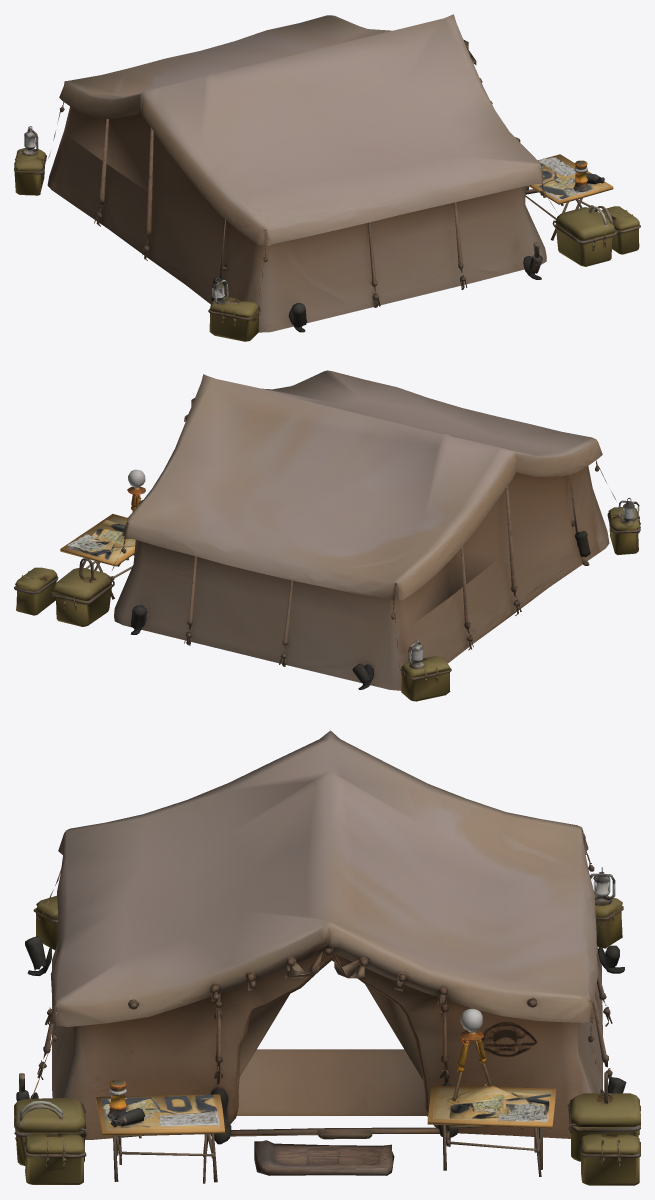
The model's file is ch1_expedition_command_tent.glb.
The picture shows the model from 3 angles, top to bottom: view 1: azimuth 30°, elevation 25°; view 2: azimuth 150°, elevation 25°; view 3: azimuth 270°, elevation 25°; orthographic projection. The views are drawn at different scales.
Visible parts, largest first — view 1: tripo_node_c0922387-0ff8-4f86-8ded-e790a2d85951; view 2: tripo_node_c0922387-0ff8-4f86-8ded-e790a2d85951; view 3: tripo_node_c0922387-0ff8-4f86-8ded-e790a2d85951.
Part boxes in pixels (x1,y1,x2,y2): tripo_node_c0922387-0ff8-4f86-8ded-e790a2d85951: (14,14,640,341); tripo_node_c0922387-0ff8-4f86-8ded-e790a2d85951: (14,370,640,701); tripo_node_c0922387-0ff8-4f86-8ded-e790a2d85951: (14,730,640,1185).
Bounding box in the file's own units: 0.9863 × 0.3887 × 0.998.
Materials: 1 (1 with a texture image).
